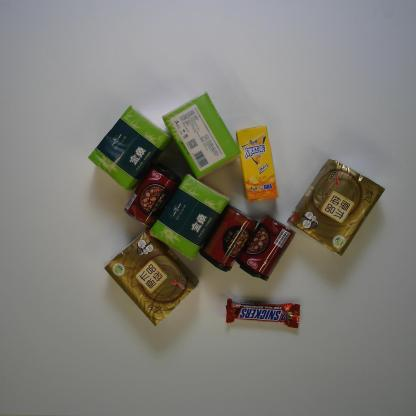Canned Food: (197, 203, 260, 272), (235, 215, 295, 282), (122, 162, 178, 228)
Chocolate: (224, 295, 302, 331)
Drink: (234, 122, 279, 204)
Tissue: (101, 227, 200, 327), (287, 159, 384, 259), (160, 89, 243, 181), (148, 174, 230, 264), (88, 104, 171, 192)
